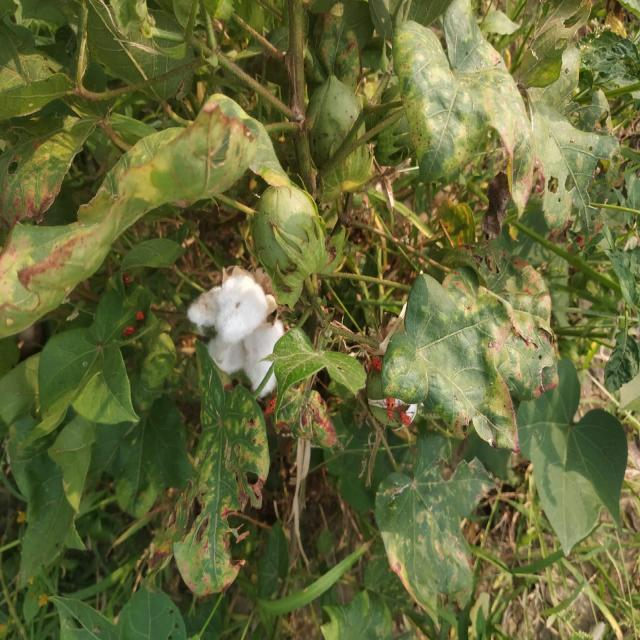Early Boll: (308, 61, 374, 181), (253, 176, 325, 279)
Matured Cotton Boll: (189, 271, 284, 397)
